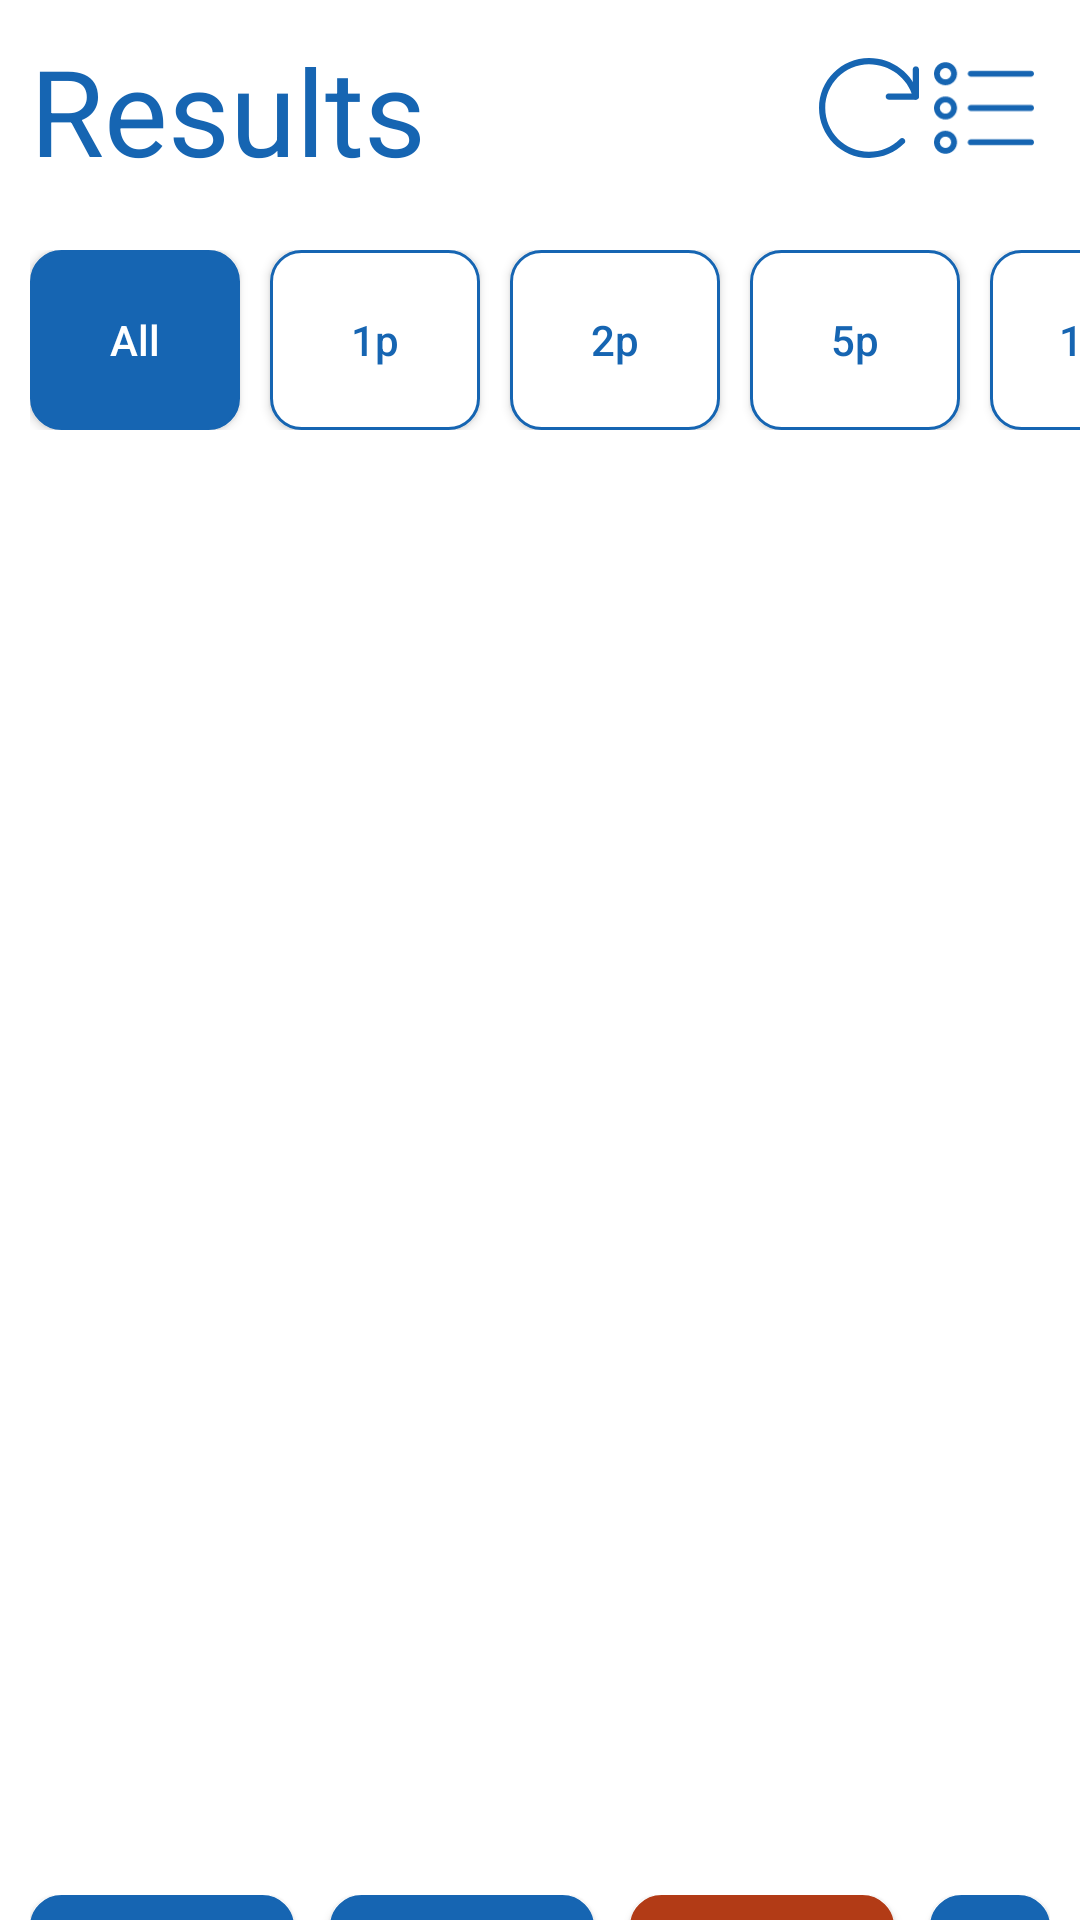

Icon click points for this 1080 x 1920 phone screenshot, format (x,y):
options list: (984,108)
redo: (869,108)
